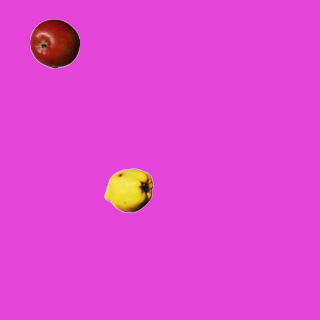Apple Braeburn: (29, 18, 79, 68)
Quince: (103, 165, 153, 215)
